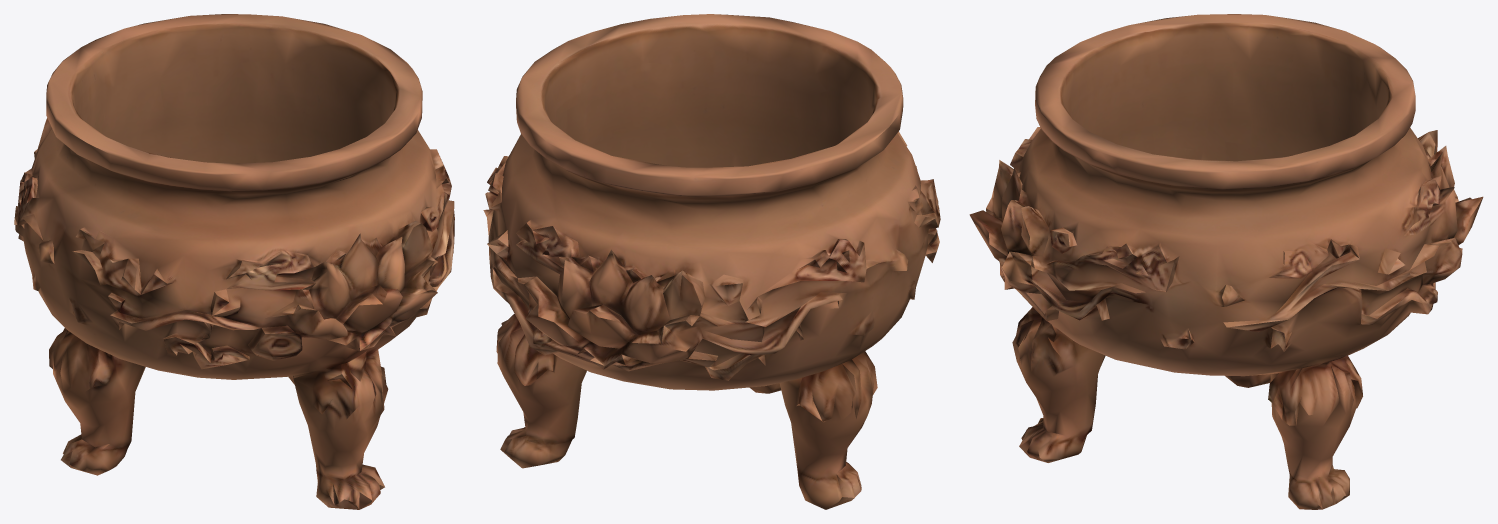
Rendered from incense_burner_tripod.fbx.
3 views of the same model, side by side, from view 1: azimuth 30°, elevation 25°; view 2: azimuth 150°, elevation 25°; view 3: azimuth 270°, elevation 25° (orthographic). The views are drawn at different scales.
Visible parts, largest first — view 1: incense_burner_tripod; view 2: incense_burner_tripod; view 3: incense_burner_tripod.
Part boxes in pixels (bbox=[...]): incense_burner_tripod: bbox=[14, 14, 454, 509]; incense_burner_tripod: bbox=[483, 14, 940, 509]; incense_burner_tripod: bbox=[969, 14, 1483, 509].
Bounding box in the file's own units: 19.89 × 17.27 × 23.
